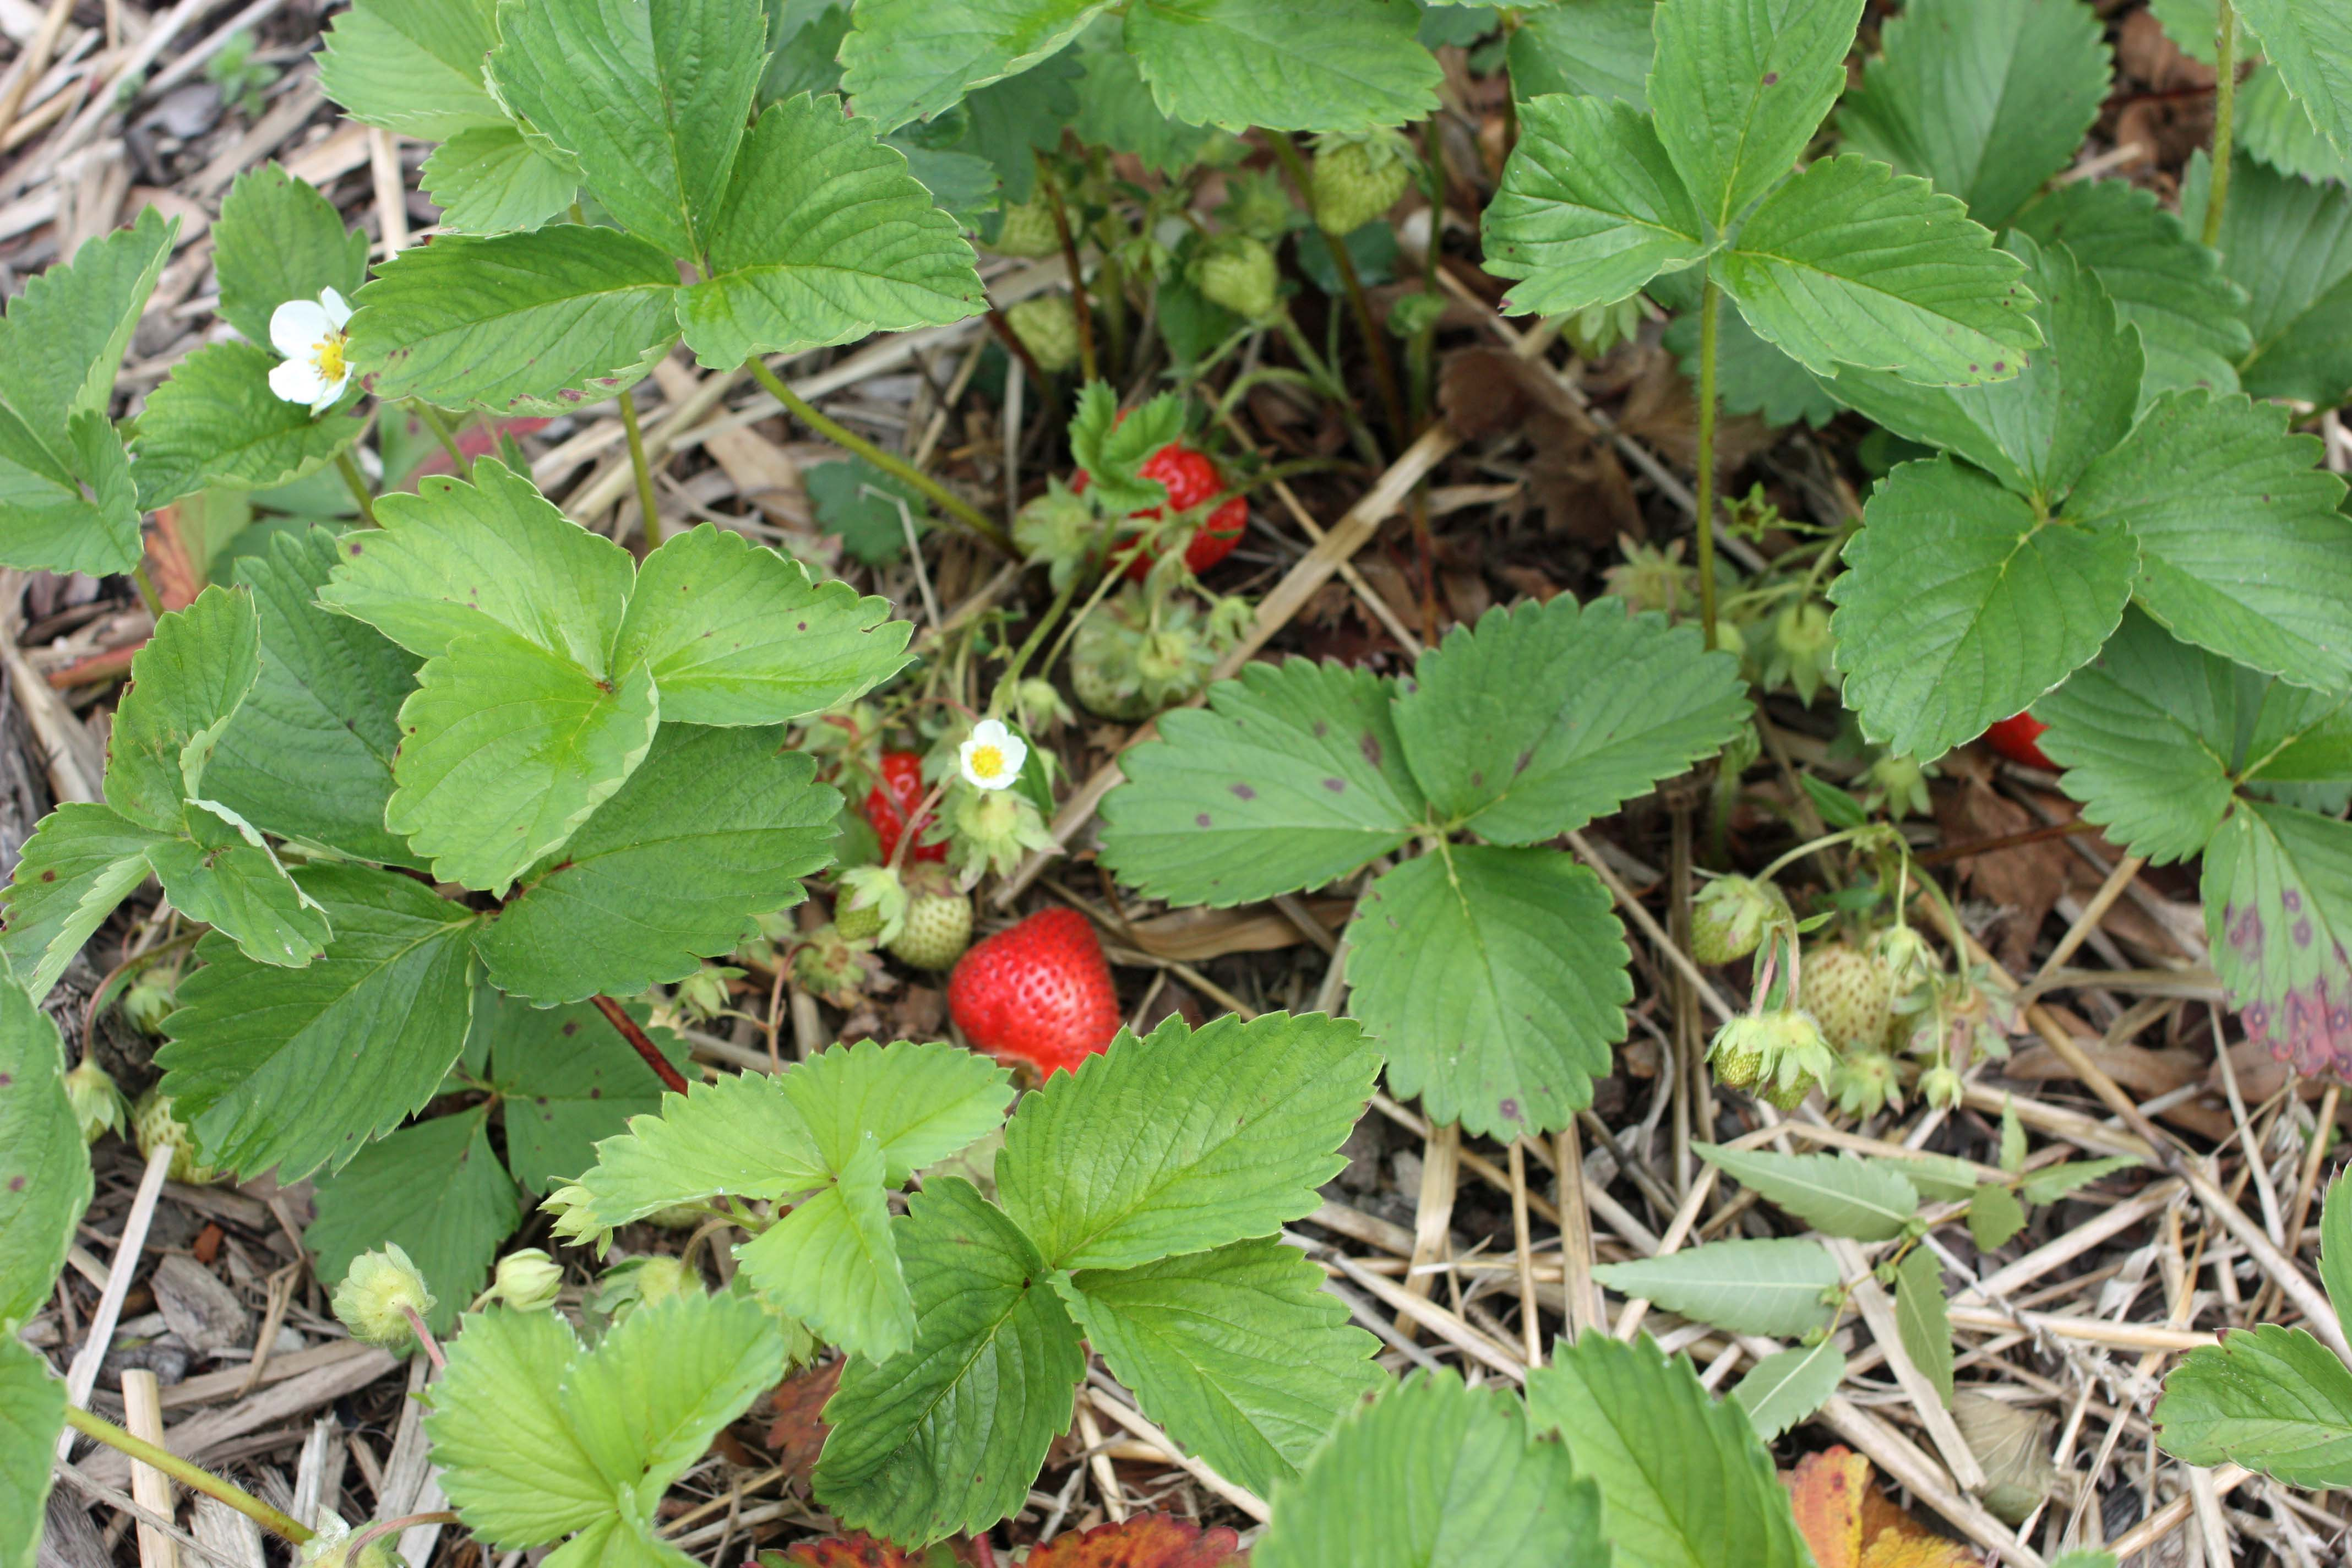ripe_strawberry: (1055, 406, 1255, 574), (936, 899, 1130, 1069), (856, 747, 955, 870), (1983, 707, 2074, 777)
unripe_strawberry: (1067, 595, 1204, 717), (1304, 112, 1424, 240), (126, 1067, 234, 1188), (1797, 938, 1893, 1053), (989, 161, 1094, 266), (880, 868, 975, 978), (1683, 868, 1781, 971), (1186, 231, 1286, 322), (1006, 285, 1095, 376), (1710, 1022, 1776, 1102), (833, 870, 903, 945)
